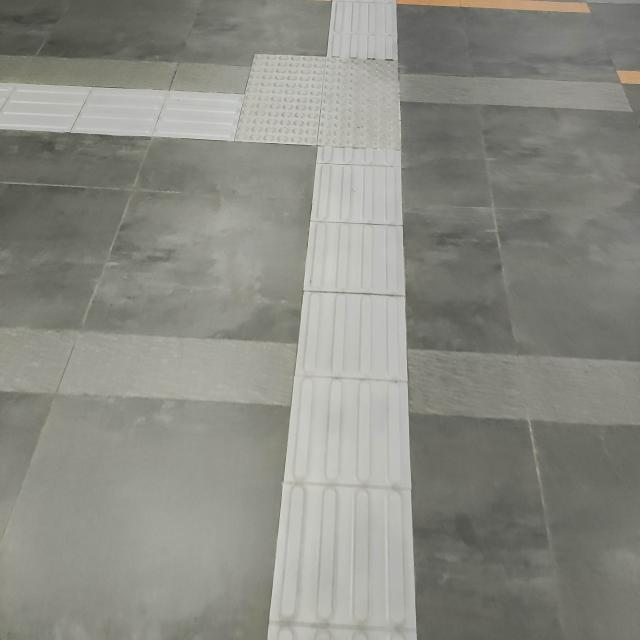lurus: (282, 148, 419, 640)
